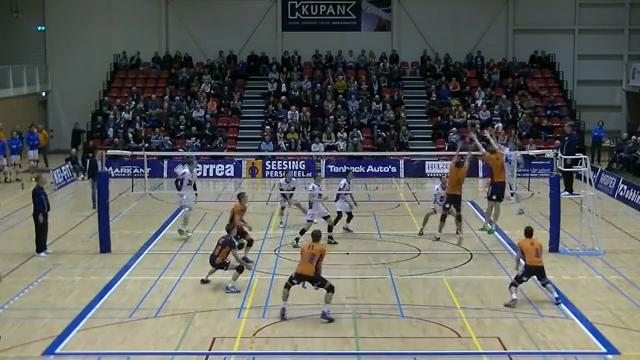Attack: (494, 136, 526, 218)
Block: (430, 137, 472, 243), (468, 129, 507, 236)
Player: (280, 229, 334, 322), (504, 226, 560, 307), (200, 223, 250, 292), (292, 173, 337, 247), (174, 159, 196, 237), (418, 176, 447, 235), (229, 192, 253, 262), (278, 170, 306, 227), (333, 170, 357, 232)
ball: (494, 122, 503, 133)
